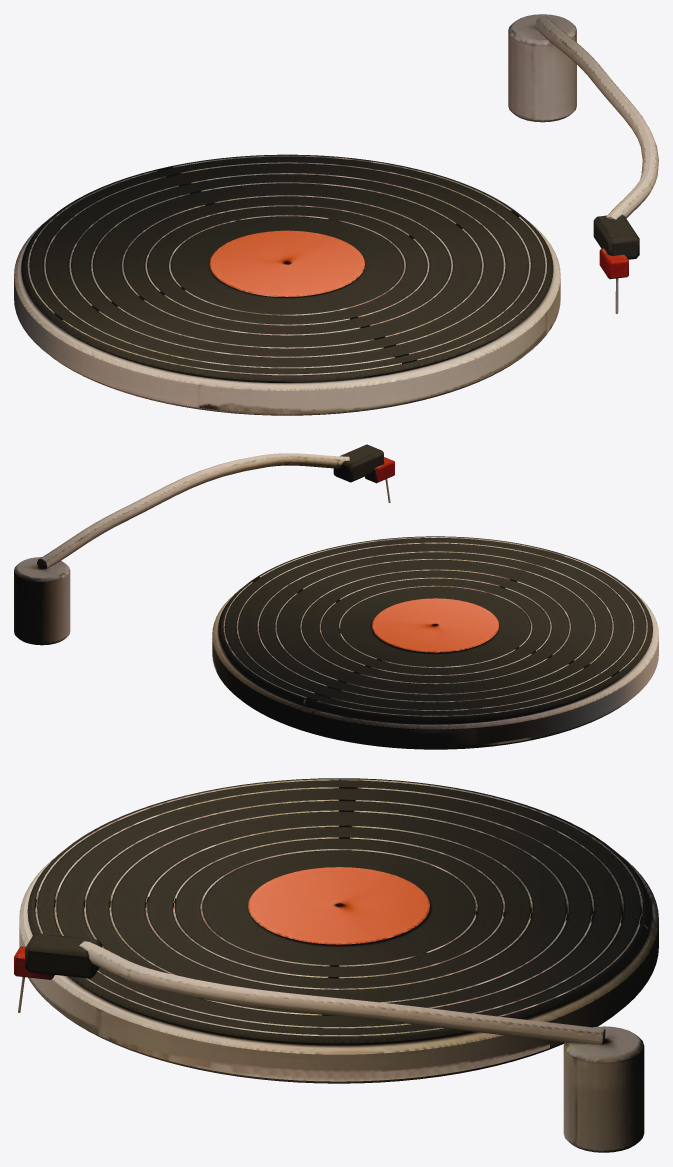
File: moving.glb
The picture shows the model from 3 angles, top to bottom: view 1: azimuth 30°, elevation 25°; view 2: azimuth 150°, elevation 25°; view 3: azimuth 270°, elevation 25°; orthographic projection. The views are drawn at different scales.
Visible parts, largest first — view 1: Platter, Tonearm; view 2: Platter, Tonearm; view 3: Platter, Tonearm.
Part boxes in pixels (<box>): Platter: <box>14,154,560,415</box>; Tonearm: <box>508,14,658,313</box>; Platter: <box>212,536,658,749</box>; Tonearm: <box>14,444,394,645</box>; Platter: <box>19,778,658,1083</box>; Tonearm: <box>14,933,644,1152</box>.
Size of the model in its own units: 0.405 by 0.0749 by 0.3044.
1 material, 1 textured.
